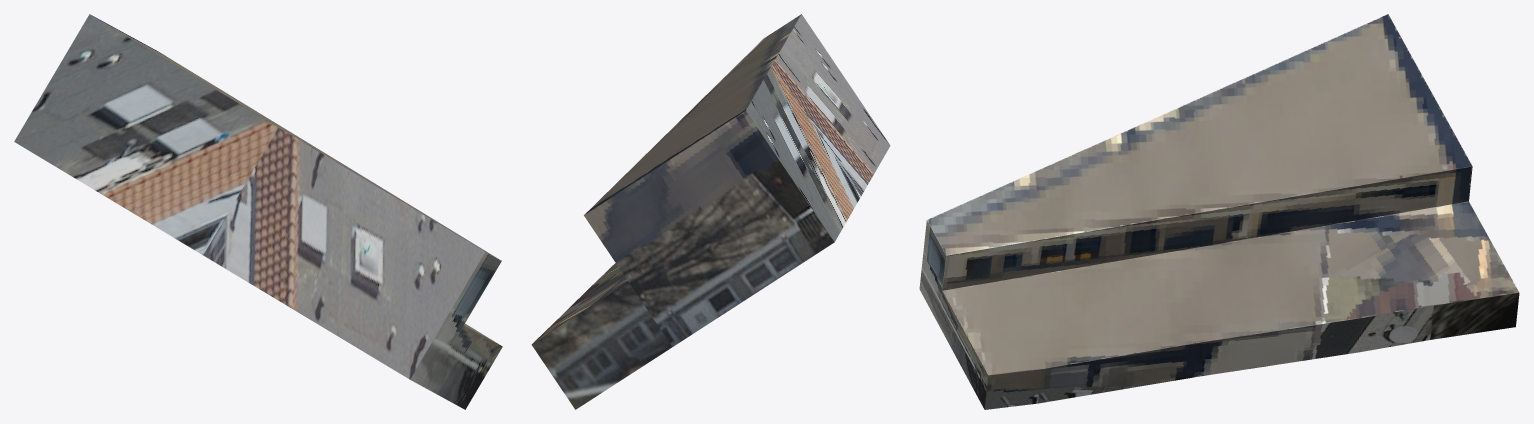
The picture shows the model from 3 angles, left to right: view 1: azimuth 30°, elevation 25°; view 2: azimuth 150°, elevation 25°; view 3: azimuth 270°, elevation 25°; orthographic projection. The views are drawn at different scales.
Visible parts, largest first — view 1: BAG_0599100010057617 (×3); view 2: BAG_0599100010057617 (×3); view 3: BAG_0599100010057617 (×6).
Boxes of the visible parts, x1=… form: BAG_0599100010057617 (×3): x1=14, y1=14, x2=502, y2=409; BAG_0599100010057617 (×3): x1=531, y1=14, x2=890, y2=409; BAG_0599100010057617 (×6): x1=919, y1=14, x2=1519, y2=409.
Bounding box in the file's own units: 11.88 × 11.29 × 20.09.
Materials: 1 (1 with a texture image).
